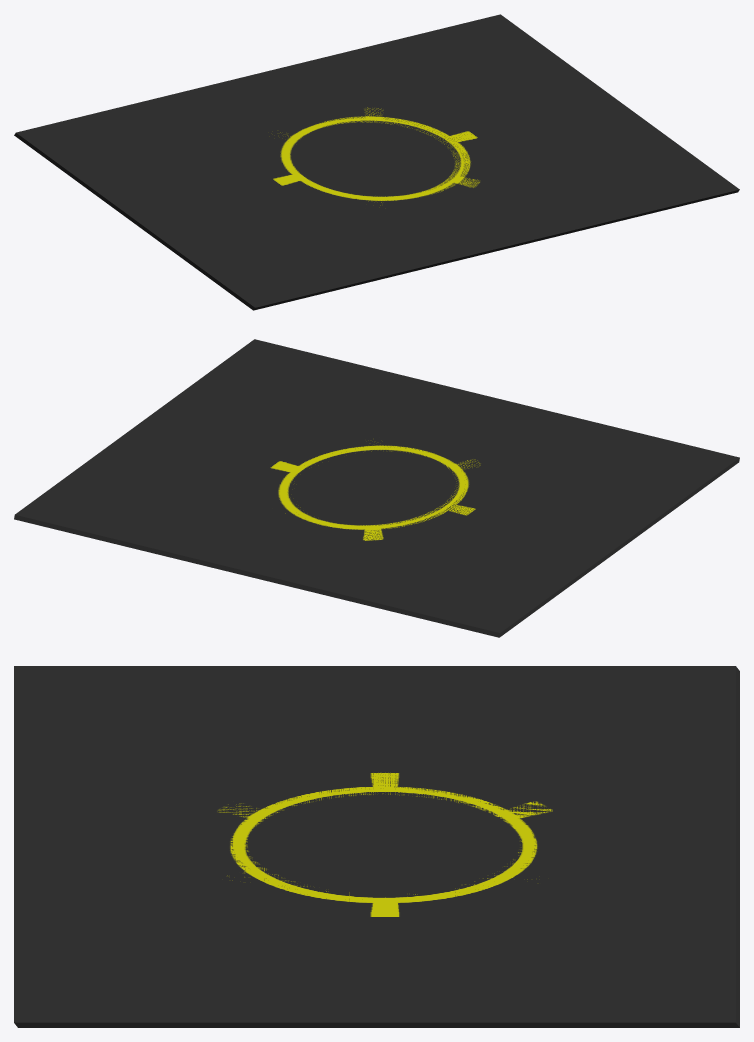
Rendered from card_0.glb.
The picture shows the model from 3 angles, top to bottom: view 1: azimuth 30°, elevation 25°; view 2: azimuth 150°, elevation 25°; view 3: azimuth 270°, elevation 25°; orthographic projection. The views are drawn at different scales.
Visible parts, largest first — view 1: Object_2; view 2: Object_2; view 3: Object_2.
Part boxes in pixels (x1=…): Object_2: x1=14, y1=14, x2=739, y2=310; Object_2: x1=14, y1=339, x2=739, y2=637; Object_2: x1=14, y1=666, x2=739, y2=1027.
Bounding box in the file's own units: 5.96 × 0.0425 × 5.12.
Materials: 1 (1 with a texture image).
